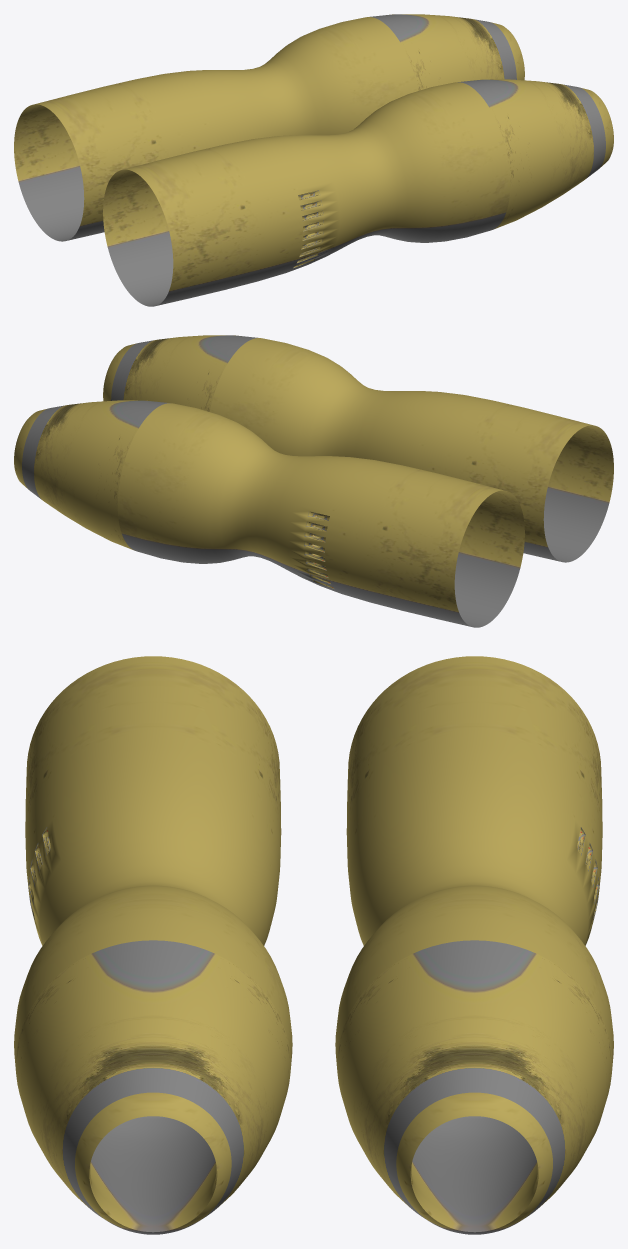
Rendered from reactors01.fbx.
The picture shows the model from 3 angles, top to bottom: view 1: azimuth 30°, elevation 25°; view 2: azimuth 150°, elevation 25°; view 3: azimuth 270°, elevation 25°; orthographic projection. The views are drawn at different scales.
Visible parts, largest first — view 1: polySurface107, polySurface110, polySurface71, polySurface72, polySurface108, polySurface111; view 2: polySurface110, polySurface107, polySurface72, polySurface71, polySurface111, polySurface108; view 3: polySurface107, polySurface110, polySurface71, polySurface72, polySurface108, polySurface111.
Part boxes in pixels (x1,y1,x2,y2): polySurface107: [103, 82, 510, 306]; polySurface110: [14, 17, 418, 241]; polySurface71: [458, 79, 605, 228]; polySurface72: [370, 14, 516, 90]; polySurface108: [580, 87, 613, 167]; polySurface111: [491, 22, 524, 80]; polySurface110: [117, 403, 524, 627]; polySurface107: [209, 338, 613, 562]; polySurface72: [22, 400, 169, 549]; polySurface71: [111, 335, 257, 411]; polySurface111: [14, 408, 47, 488]; polySurface108: [103, 343, 136, 401]; polySurface107: [14, 656, 292, 1118]; polySurface110: [335, 656, 613, 1118]; polySurface71: [15, 940, 290, 1219]; polySurface72: [337, 940, 612, 1219]; polySurface108: [75, 1092, 231, 1234]; polySurface111: [396, 1092, 552, 1234].
Size of the model in its own units: 166 by 48.55 by 105.
